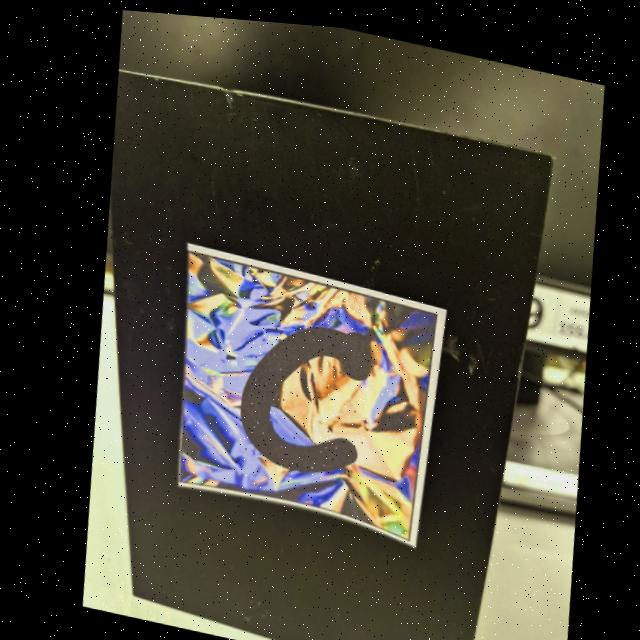C: (235, 322, 367, 467)
